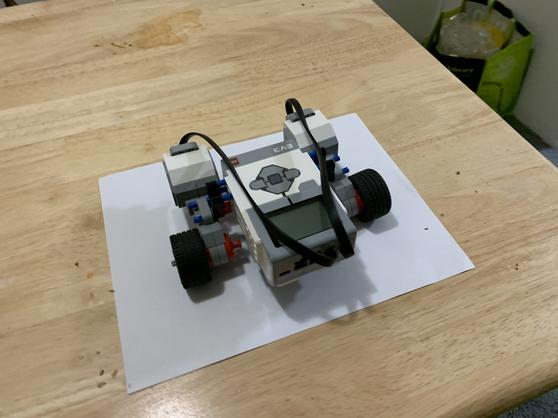robot: (160, 98, 415, 297)
